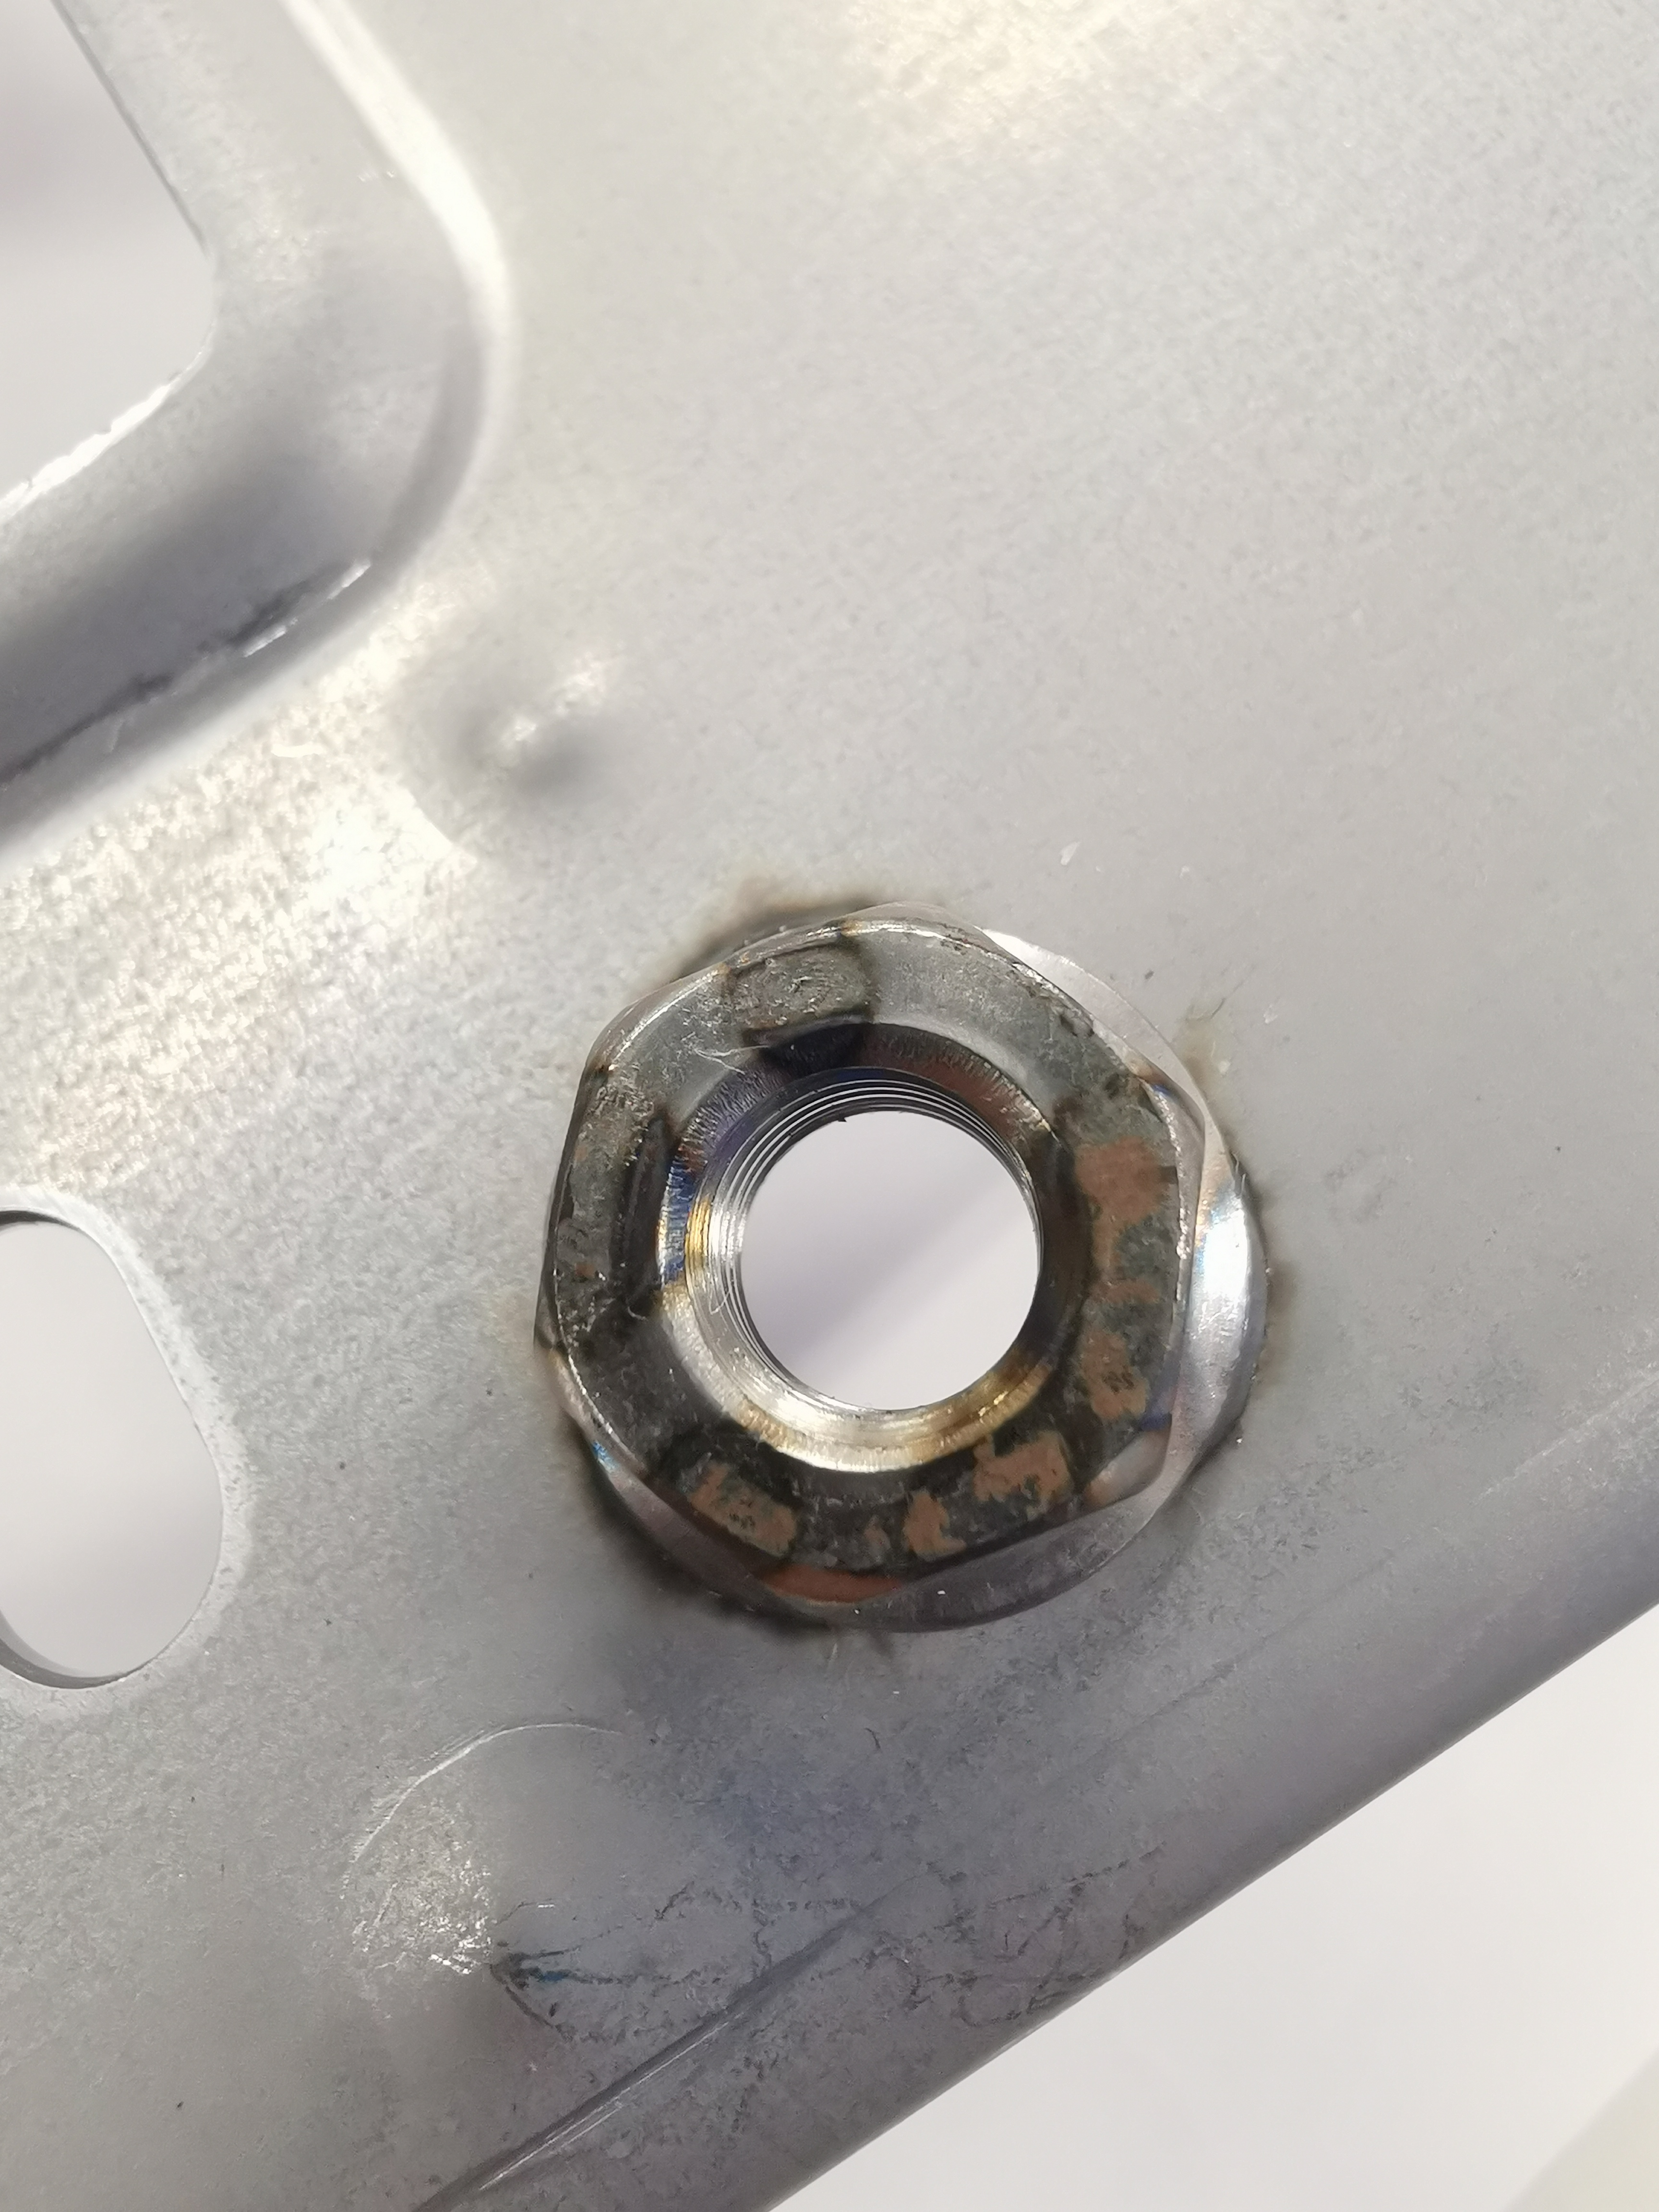dog: (521, 888, 1288, 1655)
